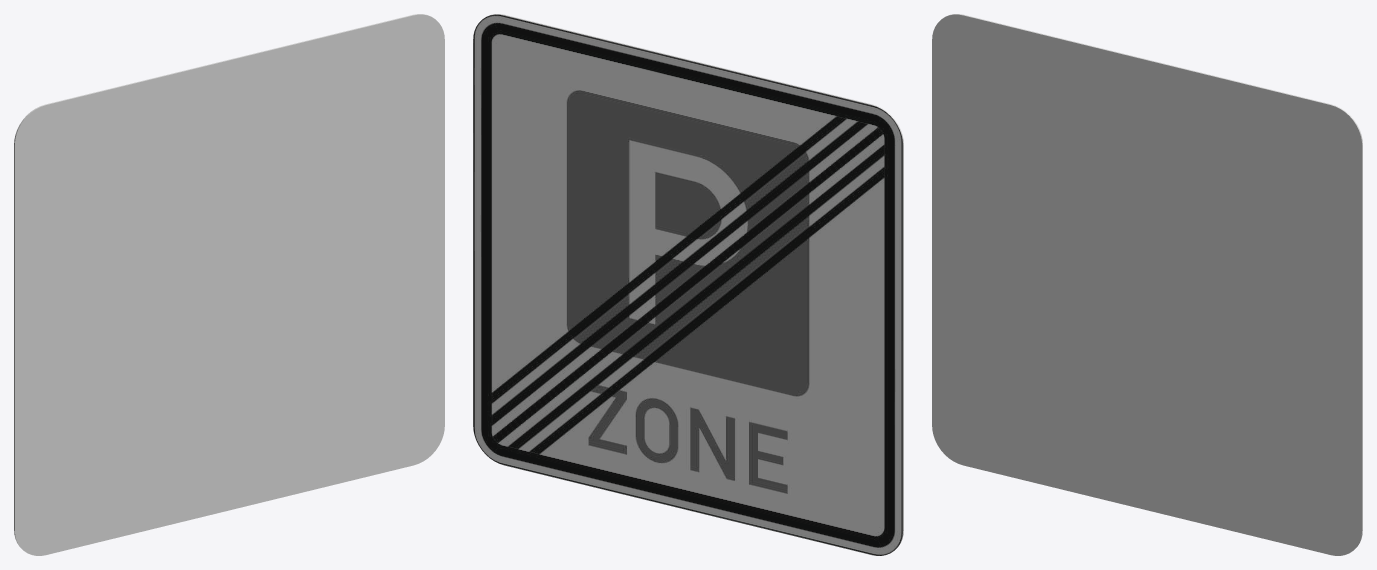
3 renders of one model, left to right at view 1: azimuth 30°, elevation 25°; view 2: azimuth 150°, elevation 25°; view 3: azimuth 330°, elevation 25°, orthographic.
Parts seen in each view (by area): view 1: Plane; view 2: Plane; view 3: Plane.
Part boxes in pixels (bbox=[...]): Plane: bbox=[14, 14, 444, 555]; Plane: bbox=[473, 14, 903, 555]; Plane: bbox=[932, 14, 1362, 555].
Size of the model in its own units: 0.6 by 0.6 by 0.002.
2 materials, 1 textured.
